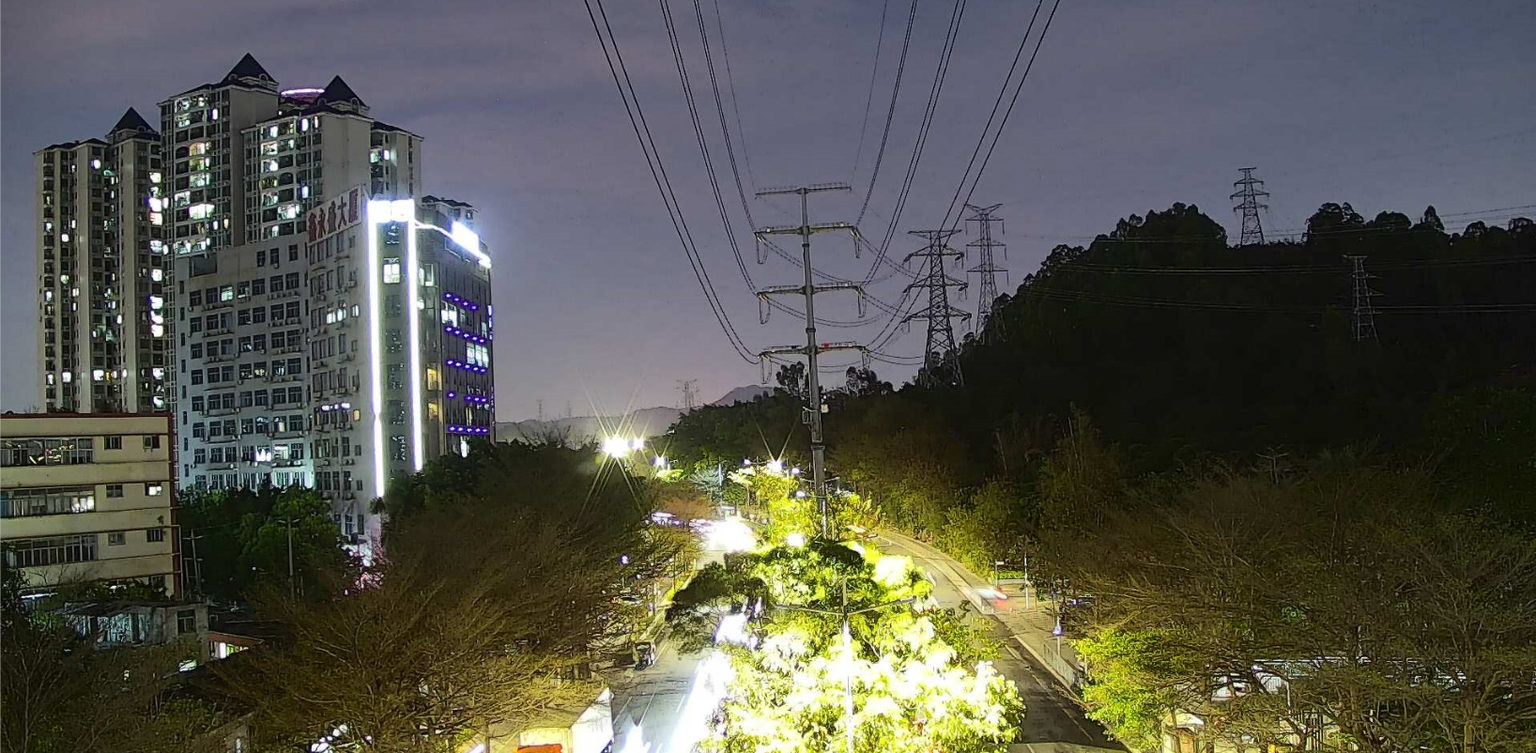过爆灯光: (364, 199, 424, 497), (663, 650, 738, 753), (694, 510, 756, 553), (714, 611, 759, 646), (451, 222, 481, 253), (619, 724, 651, 753), (877, 555, 905, 585), (604, 434, 629, 456), (473, 252, 491, 268), (788, 533, 802, 545), (767, 460, 781, 470), (654, 456, 665, 465), (633, 438, 642, 449)
